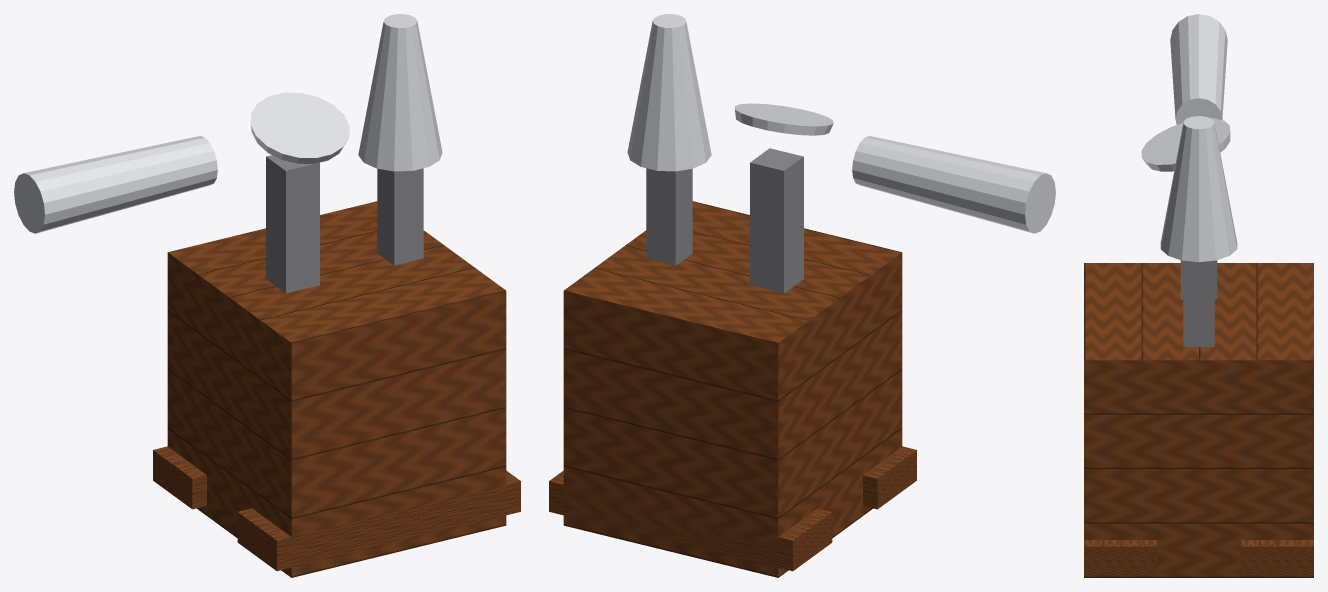
Rendered from planishing-stake-in-a-block-0-84-m.glb.
The picture shows the model from 3 angles, left to right: view 1: azimuth 30°, elevation 25°; view 2: azimuth 150°, elevation 25°; view 3: azimuth 270°, elevation 25°; orthographic projection. The views are drawn at different scales.
Visible parts, largest first — view 1: blacksmith-forge-and-armoury-planishing-stake; view 2: blacksmith-forge-and-armoury-planishing-stake; view 3: blacksmith-forge-and-armoury-planishing-stake.
Boxes of the visible parts, box(x1,y1,x2,y2) form: blacksmith-forge-and-armoury-planishing-stake: box(14, 14, 520, 577); blacksmith-forge-and-armoury-planishing-stake: box(549, 14, 1055, 577); blacksmith-forge-and-armoury-planishing-stake: box(1084, 14, 1313, 577).
Size of the model in its own units: 0.88 by 0.92 by 0.44.
3 materials, 1 textured.
